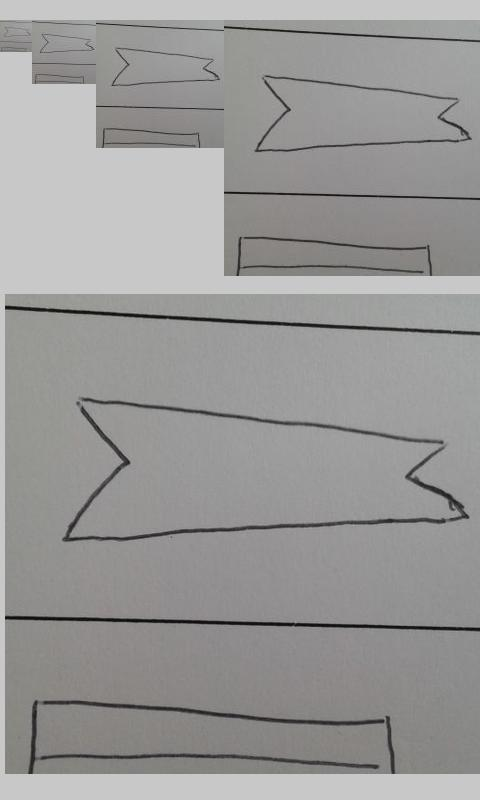edit_text: (62, 395, 473, 544), (253, 73, 473, 153), (112, 46, 219, 87), (39, 33, 95, 54), (3, 26, 31, 37)
